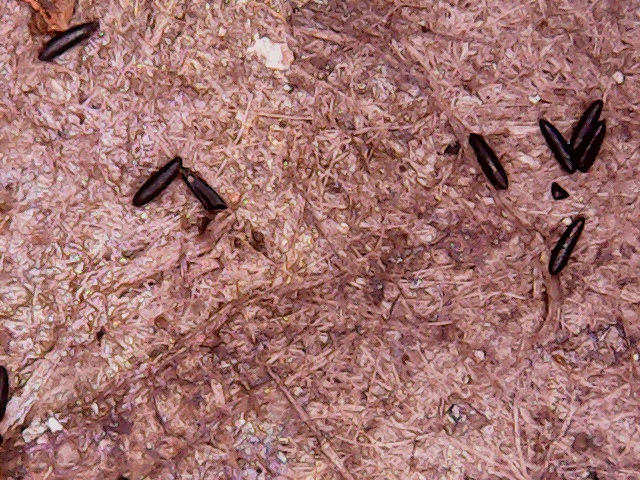full: (30, 15, 106, 65), (465, 125, 513, 195), (122, 151, 182, 205), (546, 207, 589, 282), (177, 165, 232, 213), (575, 98, 608, 176), (532, 113, 569, 174)
